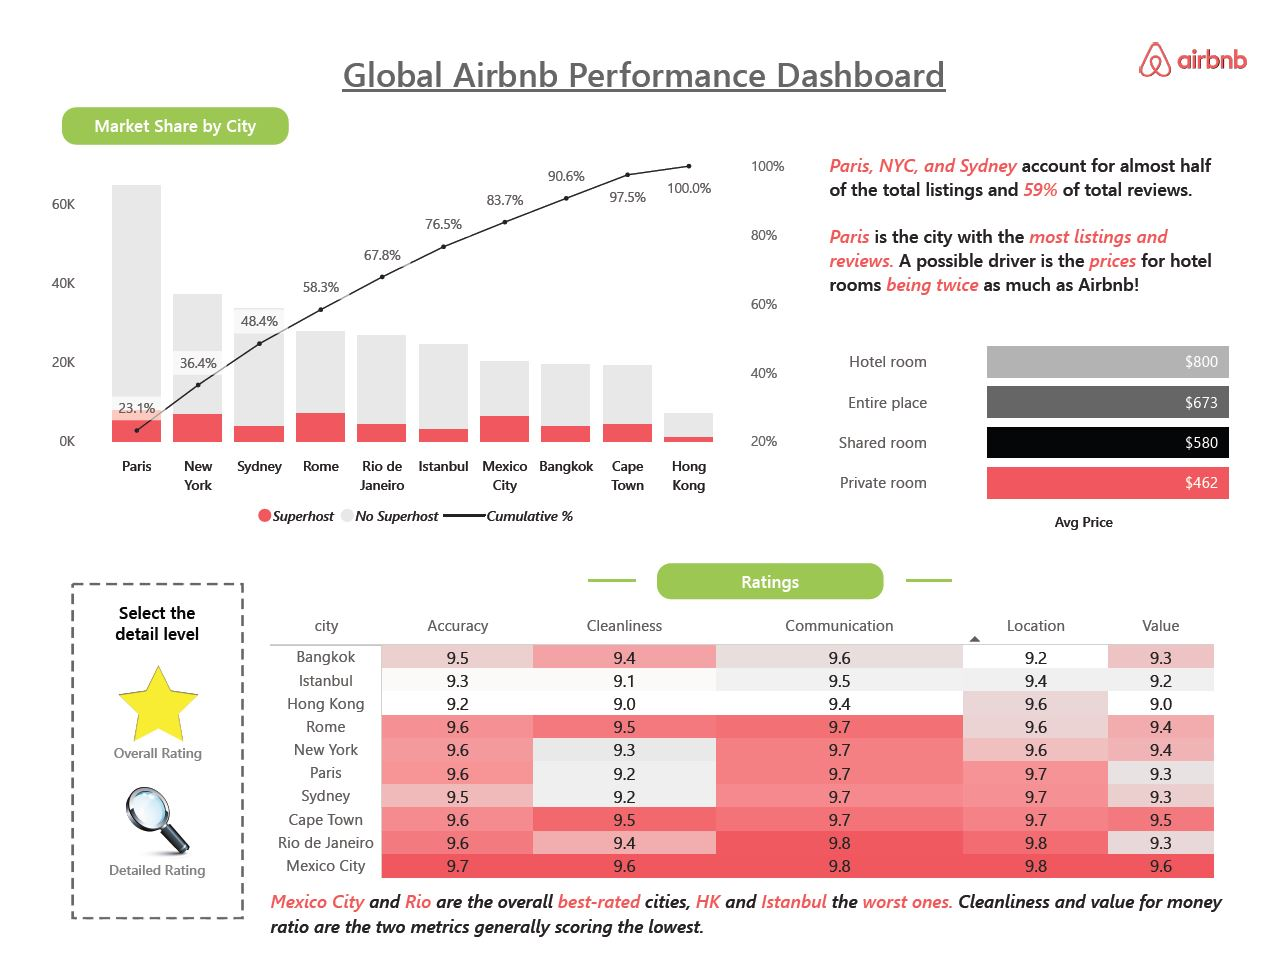

What the dashboard file says about the page in this screenshot:
{"tool":"powerbi","page":{"name":"Ratings","canvas":[960,720],"ordinal":1},"visuals":[{"type":"textbox","box":[223.9,14.4,512.2,53.3],"z":0},{"type":"shape","box":[26.9,70.9,174.9,30],"z":0,"group":"g4"},{"type":"shape","box":[392.2,422.2,174.9,30],"z":0,"group":"g3"},{"type":"image","box":[81.3,527.5,51.1,52.2],"z":0,"group":"g1"},{"type":"image","box":[80,620.7,51.1,52.2],"z":0,"group":"g2"},{"type":"image","box":[845.6,26.7,93.3,26.7],"z":1000},{"type":"textbox","box":[44.5,70.3,139.7,32.1],"z":1000,"group":"g4"},{"type":"textbox","box":[443.9,423.2,64.2,27.9],"z":1000,"group":"g3"},{"type":"textbox","box":[58,571.9,98.9,31.1],"z":1000,"group":"g1"},{"type":"textbox","box":[57.8,662.9,98.9,31.1],"z":1000,"group":"g2"},{"type":"lineStackedColumnComboChart","fields":{"Category":["Listings.city"],"Y":["Listings.Superhost Listings","Listings.No Superhost Listings"],"Y2":["Listings.Cumulative %"]},"box":[18.6,103.5,537.8,302.2],"z":2000},{"type":"barChart","fields":{"Category":["Listings.room_type"],"Y":["Listings.Avg Price"]},"box":[582.7,234.9,356,160.4],"z":3000},{"type":"textbox","box":[582.7,103.5,356,48.6],"z":4000},{"type":"textbox","box":[582.7,163.5,356,66.2],"z":5000},{"type":"shape","box":[329.1,425.3,45.5,23.8],"z":6000},{"type":"shape","box":[582.7,425.3,45.5,23.8],"z":7000},{"type":"image","box":[0,459.5,213.3,248.9],"z":8000},{"type":"textbox","box":[61.1,474,90,45.6],"z":9000},{"type":"pivotTable","fields":{"Rows":["Listings.city"],"Values":["Listings.Accuracy","Listings.Cleanliness Rating","Listings.Communication Rating","Listings.Location Rating","Listings.Value Rating"]},"box":[201.8,458.5,736.9,224.6],"z":11000},{"type":"group","id":"g1","title":"Group 1","box":[58,527.5,98.9,75.5],"z":12000},{"type":"group","id":"g2","title":"Group 2","box":[57.8,620.7,98.9,73.3],"z":13000},{"type":"group","id":"g3","title":"Group 3","box":[392.2,422.2,174.9,30],"z":14000},{"type":"group","id":"g4","title":"Group 3","box":[26.9,70.3,174.9,32.1],"z":15000},{"type":"textbox","box":[201.8,672.7,736.9,47.6],"z":16000}]}

Visuals, with their boxes in screenshot pixels (x1, y1, x2, y2), scaled from the page's 960x720 canvas onto the 1287x978 screenshot:
textbox: bbox=(300, 20, 987, 92)
shape: bbox=(36, 96, 271, 137)
shape: bbox=(526, 573, 760, 614)
image: bbox=(109, 717, 177, 787)
image: bbox=(107, 843, 176, 914)
image: bbox=(1134, 36, 1259, 73)
textbox: bbox=(60, 95, 247, 139)
textbox: bbox=(595, 575, 681, 613)
textbox: bbox=(78, 777, 210, 819)
textbox: bbox=(77, 900, 210, 943)
lineStackedColumnComboChart - Listings.city x Listings.Superhost Listings: bbox=(25, 141, 746, 551)
barChart - Listings.room_type x Listings.Avg Price: bbox=(781, 319, 1258, 537)
textbox: bbox=(781, 141, 1258, 207)
textbox: bbox=(781, 222, 1258, 312)
shape: bbox=(441, 578, 502, 610)
shape: bbox=(781, 578, 842, 610)
image: bbox=(0, 624, 286, 962)
textbox: bbox=(82, 644, 203, 706)
pivotTable - Listings.city x Listings.Accuracy: bbox=(271, 623, 1258, 928)
"Group 1" group: bbox=(78, 717, 210, 819)
"Group 2" group: bbox=(77, 843, 210, 943)
"Group 3" group: bbox=(526, 573, 760, 614)
"Group 3" group: bbox=(36, 95, 271, 139)
textbox: bbox=(271, 914, 1258, 977)
